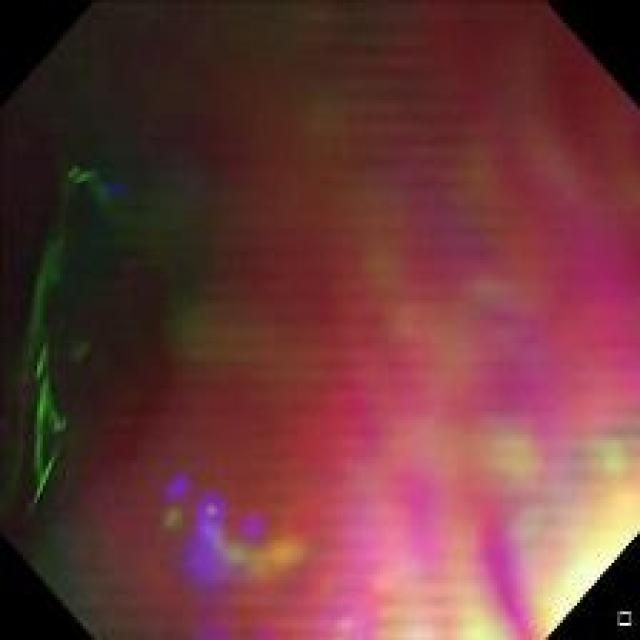color misalignment: (6, 9, 631, 631), (342, 119, 618, 609), (34, 156, 118, 511), (170, 478, 299, 592)
